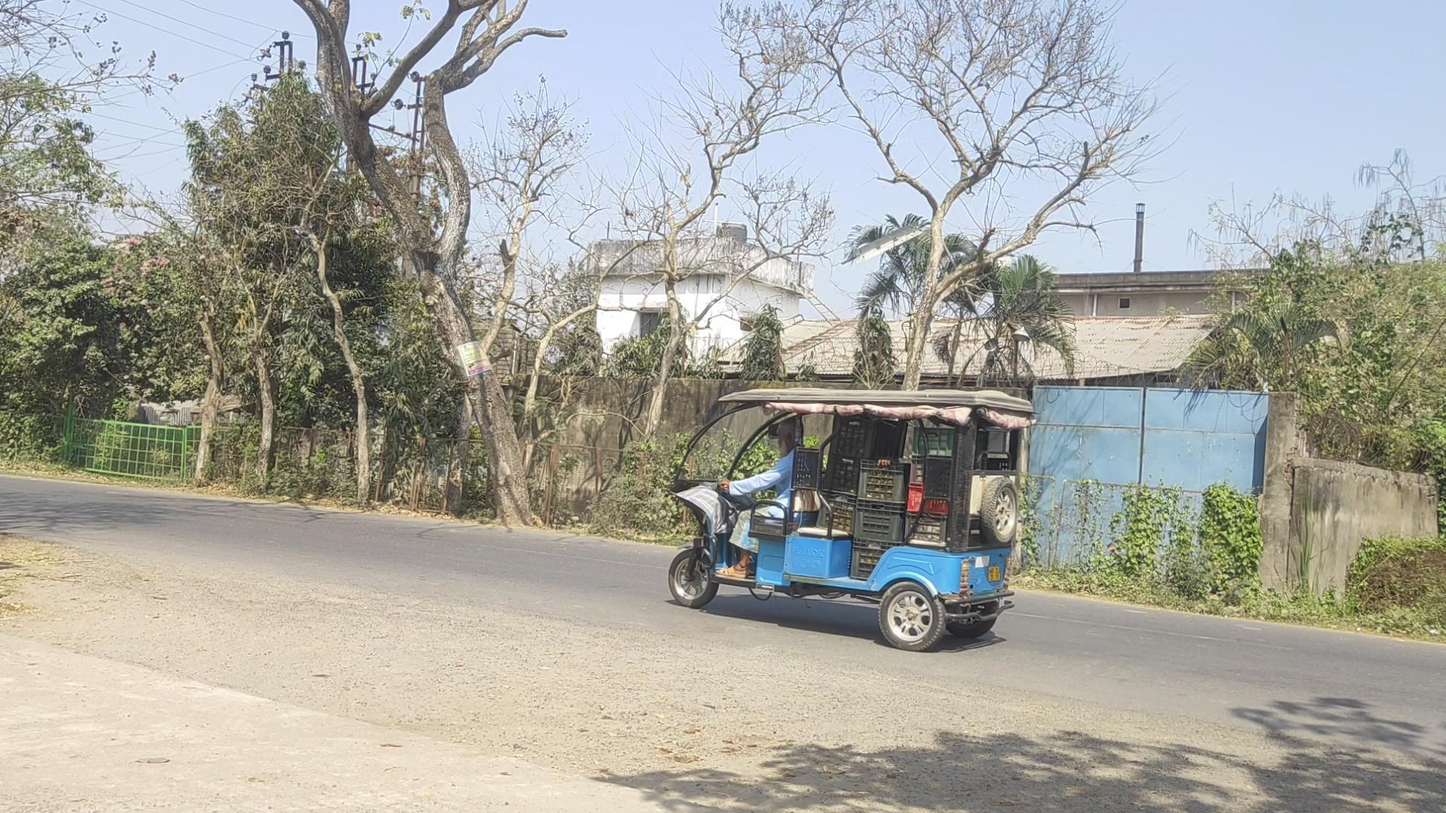Auto: (668, 387, 1037, 652)
